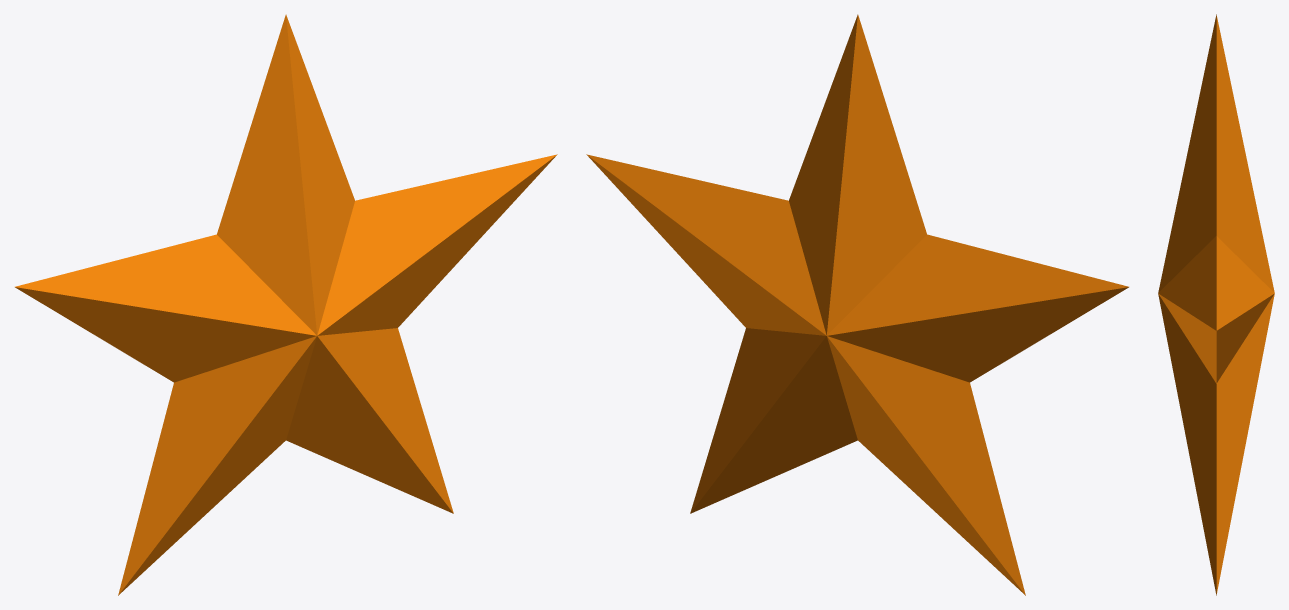
The model's file is star.obj.
3 renders of one model, left to right at view 1: azimuth 30°, elevation 25°; view 2: azimuth 150°, elevation 25°; view 3: azimuth 270°, elevation 25°, orthographic. The views are drawn at different scales.
Size of the model in its own units: 1.95 by 1.85 by 0.3876.
